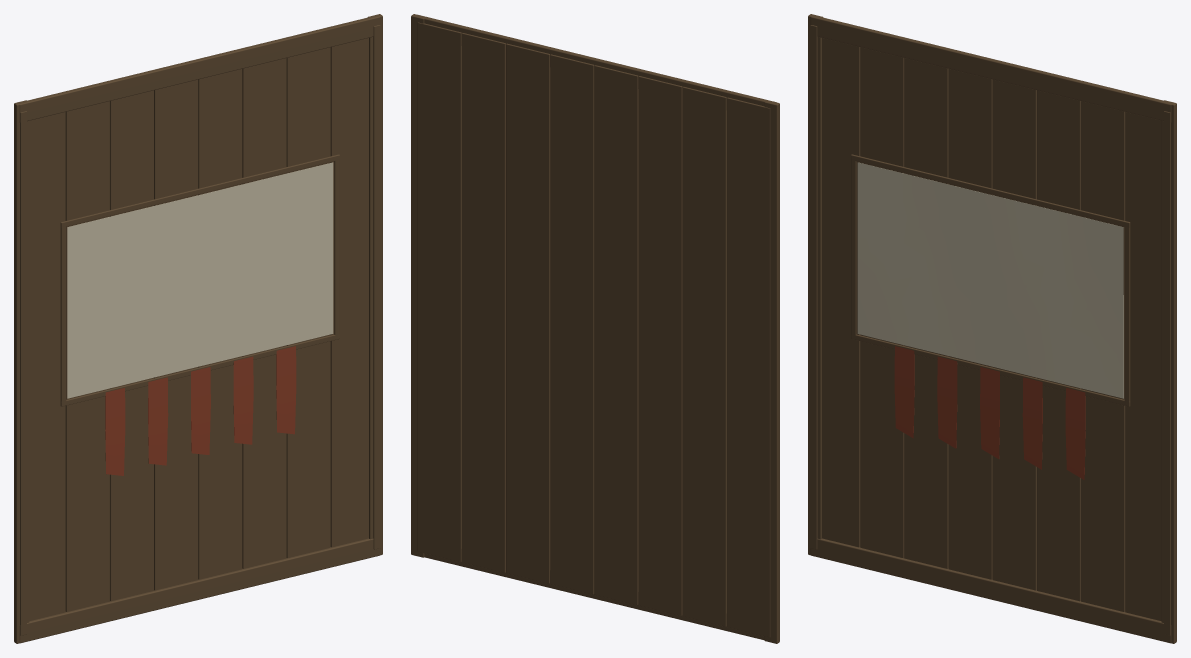
The model's file is entrance-panel-lod0.fbx.
3 views of the same model, side by side, from view 1: azimuth 30°, elevation 25°; view 2: azimuth 150°, elevation 25°; view 3: azimuth 330°, elevation 25° (orthographic).
Visible parts, largest first — view 1: Slack paper return plaque, Individual entrance boards.007, Individual entrance boards, Individual entrance boards.001, Individual entrance boards.006, Individual entrance boards.005, Individual entrance boards.004, Individual entrance boards.003, Individual entrance boards.002, Entrance top and foot rail.001, Entrance top and foot rail, Planed entrance stile (+12 smaller); view 2: Individual entrance boards.004, Individual entrance boards.001, Individual entrance boards.002, Individual entrance boards.003, Individual entrance boards.007, Individual entrance boards.005, Individual entrance boards.006, Individual entrance boards, Planed entrance stile, Planed entrance stile.001, Entrance top and foot rail.001, Entrance top and foot rail; view 3: Slack paper return plaque, Individual entrance boards, Individual entrance boards.007, Individual entrance boards.006, Individual entrance boards.001, Individual entrance boards.002, Individual entrance boards.003, Individual entrance boards.004, Individual entrance boards.005, Entrance top and foot rail.001, Entrance top and foot rail, Planed entrance stile.001 (+12 smaller).
Boxes of the visible parts, <box> form: Slack paper return plaque: <box>67,162,333,398</box>; Individual entrance boards.007: <box>330,38,368,547</box>; Individual entrance boards: <box>29,112,65,621</box>; Individual entrance boards.001: <box>65,101,109,611</box>; Individual entrance boards.006: <box>286,47,330,558</box>; Individual entrance boards.005: <box>242,58,286,568</box>; Individual entrance boards.004: <box>198,69,242,579</box>; Individual entrance boards.003: <box>154,79,198,590</box>; Individual entrance boards.002: <box>110,90,153,601</box>; Entrance top and foot rail.001: <box>19,15,380,122</box>; Entrance top and foot rail: <box>19,538,380,643</box>; Planed entrance stile: <box>14,100,29,643</box>; Individual entrance boards.004: <box>550,54,594,594</box>; Individual entrance boards.001: <box>682,86,726,626</box>; Individual entrance boards.002: <box>638,76,682,615</box>; Individual entrance boards.003: <box>594,65,638,605</box>; Individual entrance boards.007: <box>417,22,461,561</box>; Individual entrance boards.005: <box>506,43,550,583</box>; Individual entrance boards.006: <box>462,33,505,572</box>; Individual entrance boards: <box>727,97,770,637</box>; Planed entrance stile: <box>764,100,779,643</box>; Planed entrance stile.001: <box>411,14,424,557</box>; Entrance top and foot rail.001: <box>416,14,775,109</box>; Entrance top and foot rail: <box>424,548,764,640</box>; Slack paper return plaque: <box>857,162,1123,398</box>; Individual entrance boards: <box>822,38,860,547</box>; Individual entrance boards.007: <box>1125,112,1161,621</box>; Individual entrance boards.006: <box>1081,101,1125,611</box>; Individual entrance boards.001: <box>860,47,904,558</box>; Individual entrance boards.002: <box>904,58,948,568</box>; Individual entrance boards.003: <box>948,69,992,579</box>; Individual entrance boards.004: <box>992,79,1036,590</box>; Individual entrance boards.005: <box>1037,90,1080,601</box>; Entrance top and foot rail.001: <box>810,15,1171,122</box>; Entrance top and foot rail: <box>810,538,1171,643</box>; Planed entrance stile.001: <box>1161,100,1176,643</box>.
Size of the model in its own units: 154 by 217 by 3.
